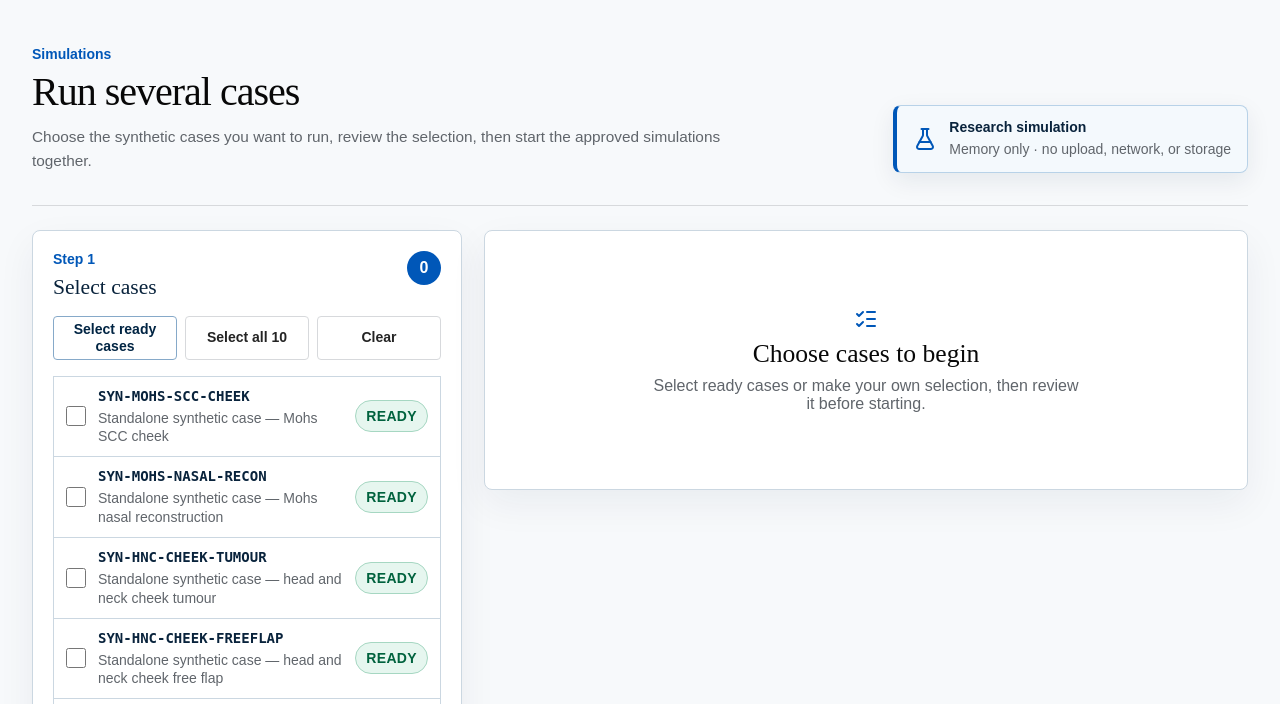
it: batch jobs page › retries a failed item with a new attempt while preserving its run
What coordinates should you click on to do the following:
click the checkbox labelled "SYN-HNC-CHEEK-TUMOUR"
I would click on:
 (76, 578)
Its box is [66,568,86,588].
(page scrolled)
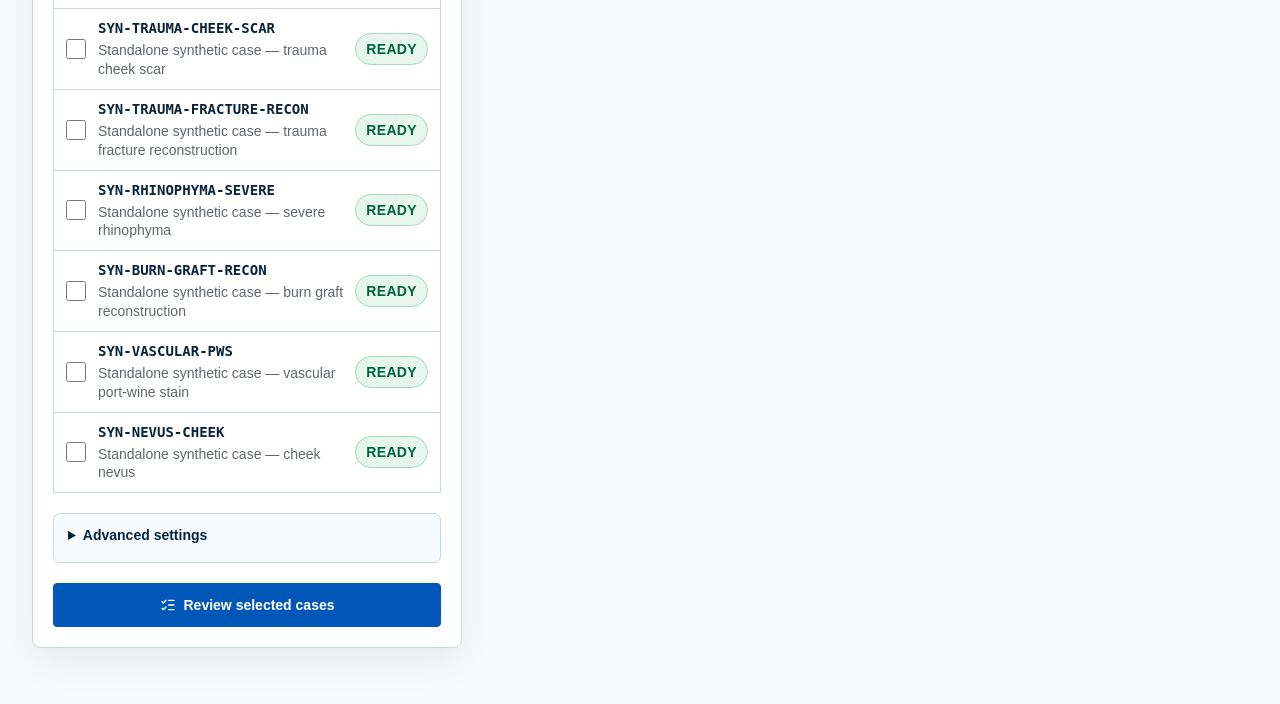
What coordinates should you click on to do the following:
click the button "Review selected cases"
I would click on:
 (247, 605)
Its box is [53,583,441,627].
(page scrolled)
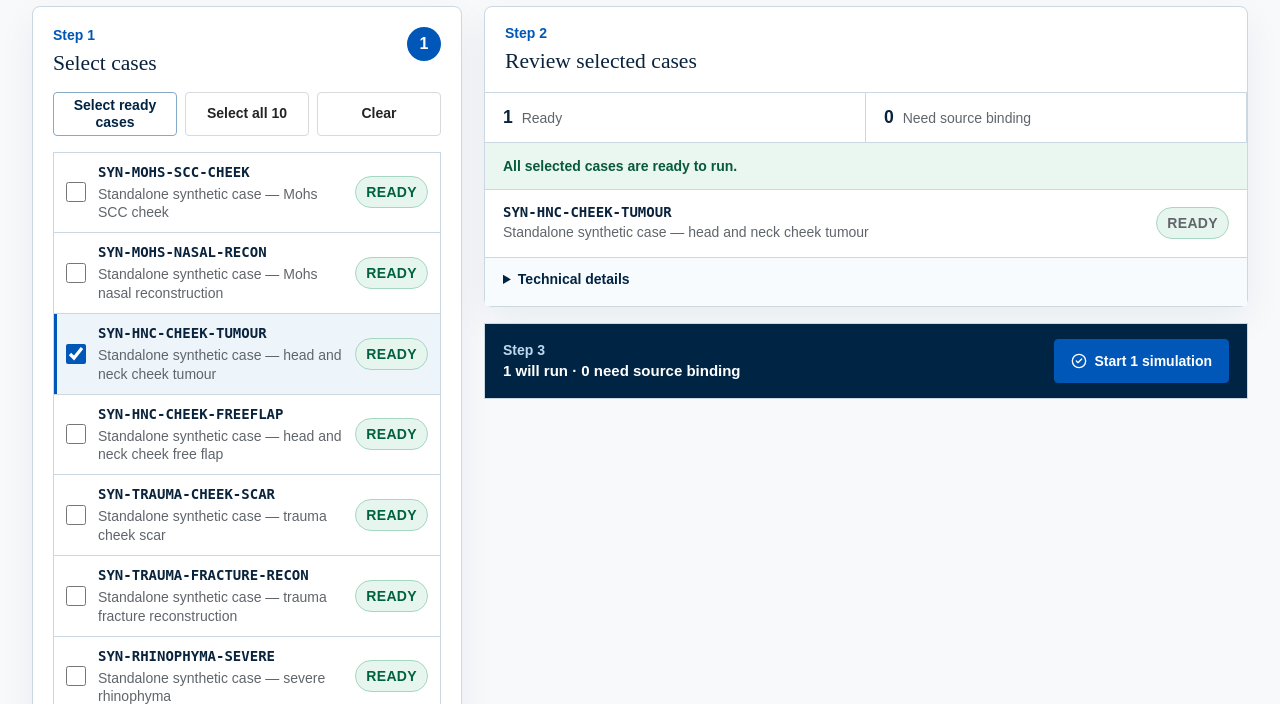
What coordinates should you click on to do the following:
click the button "Start 1 simulation"
I would click on:
 (1141, 361)
Its box is [1054,339,1229,383].
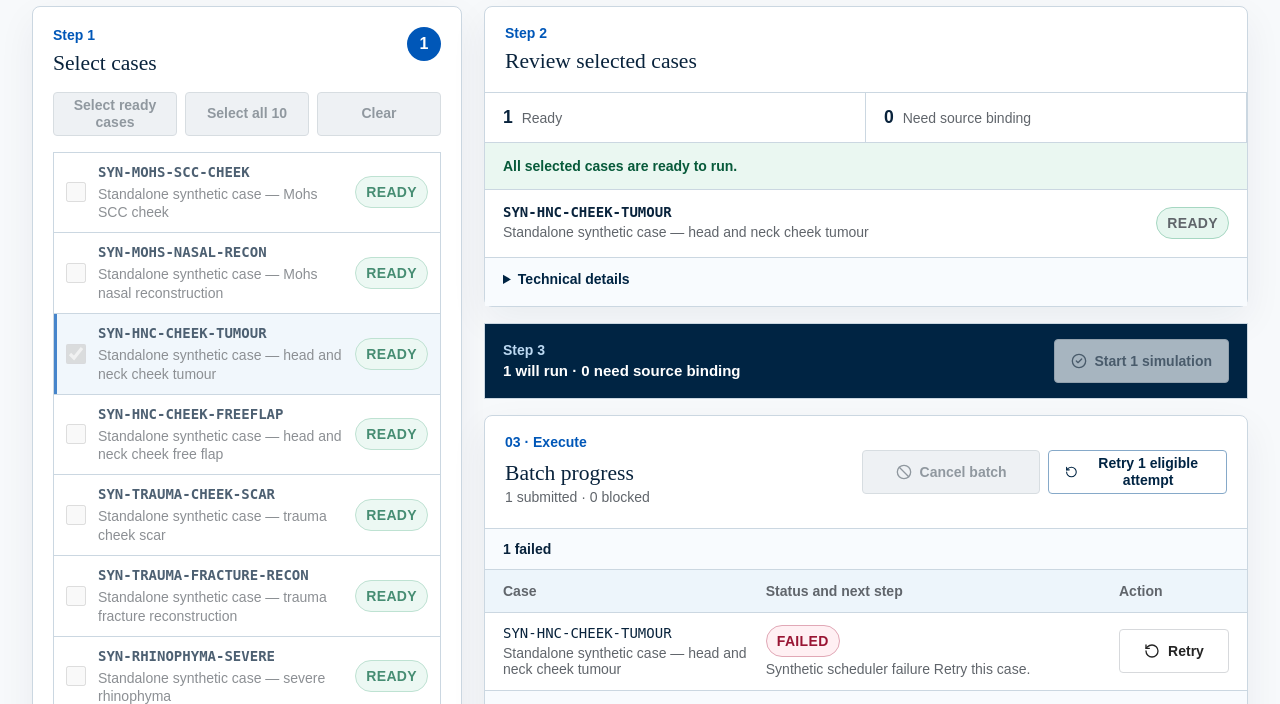
Result: the text "failed" is shown at [766,625,840,657]
What coordinates should you click on to do the following:
click the button "Retry 1 eligible attempt"
I would click on:
 (1138, 472)
Its box is [1048,450,1227,494].
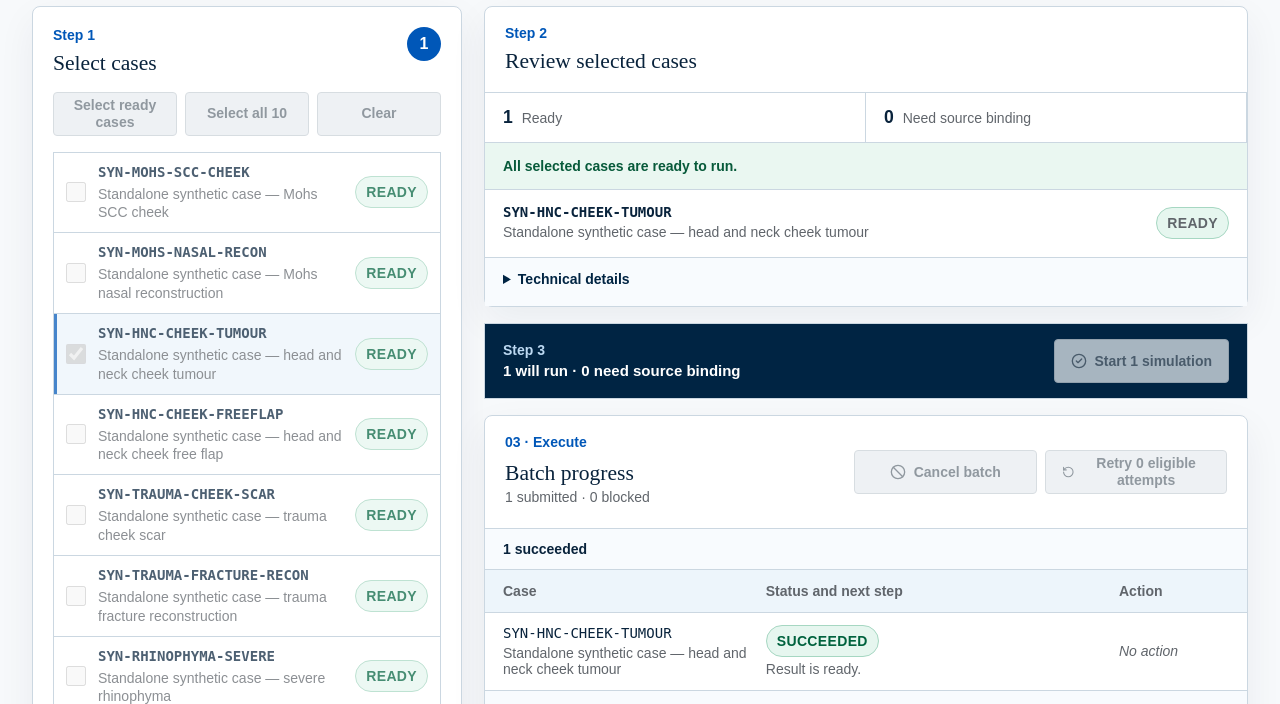
Result: the text "succeeded" is shown at [766,625,879,657]
